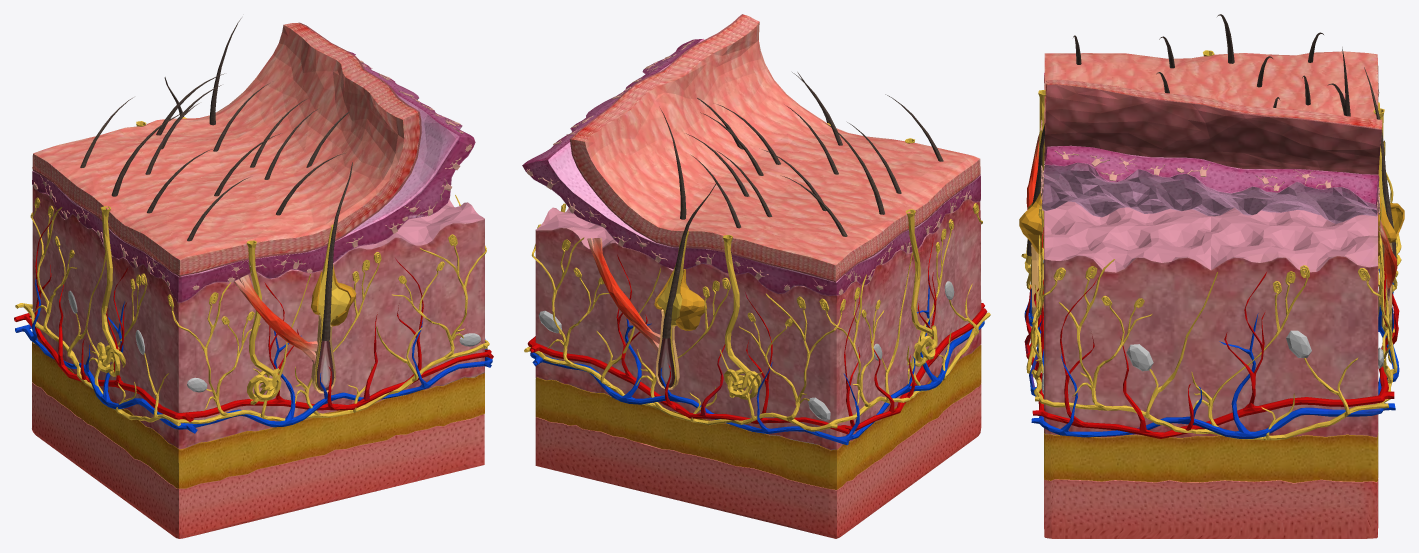
File: skin.glb
3 views of the same model, side by side, from view 1: azimuth 30°, elevation 25°; view 2: azimuth 150°, elevation 25°; view 3: azimuth 270°, elevation 25° (orthographic). The views are drawn at different scales.
Visible parts, largest first — view 1: Mesh_023; view 2: Mesh_023; view 3: Mesh_023.
Part boxes in pixels (x1,y1,x2,y2): Mesh_023: (14, 18, 493, 538); Mesh_023: (522, 14, 990, 538); Mesh_023: (1019, 14, 1404, 538).
Bounding box in the file's own units: 2.13 × 2.29 × 1.84.
Materials: 1 (1 with a texture image).
